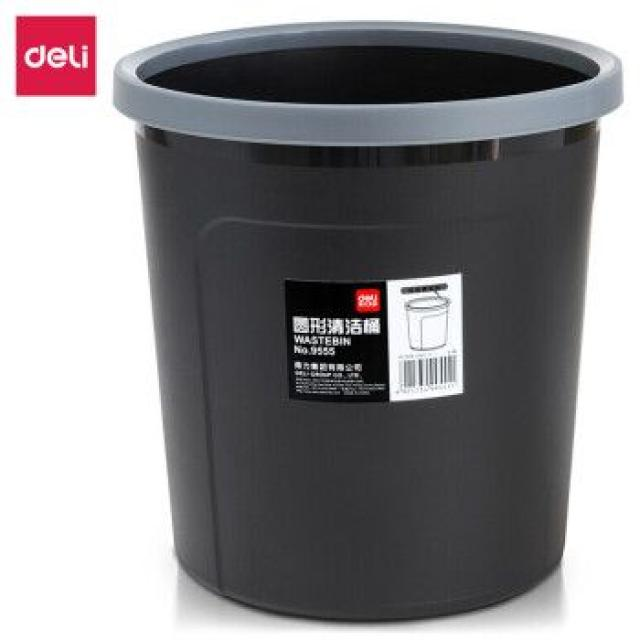dustbin: (110, 16, 625, 626)
